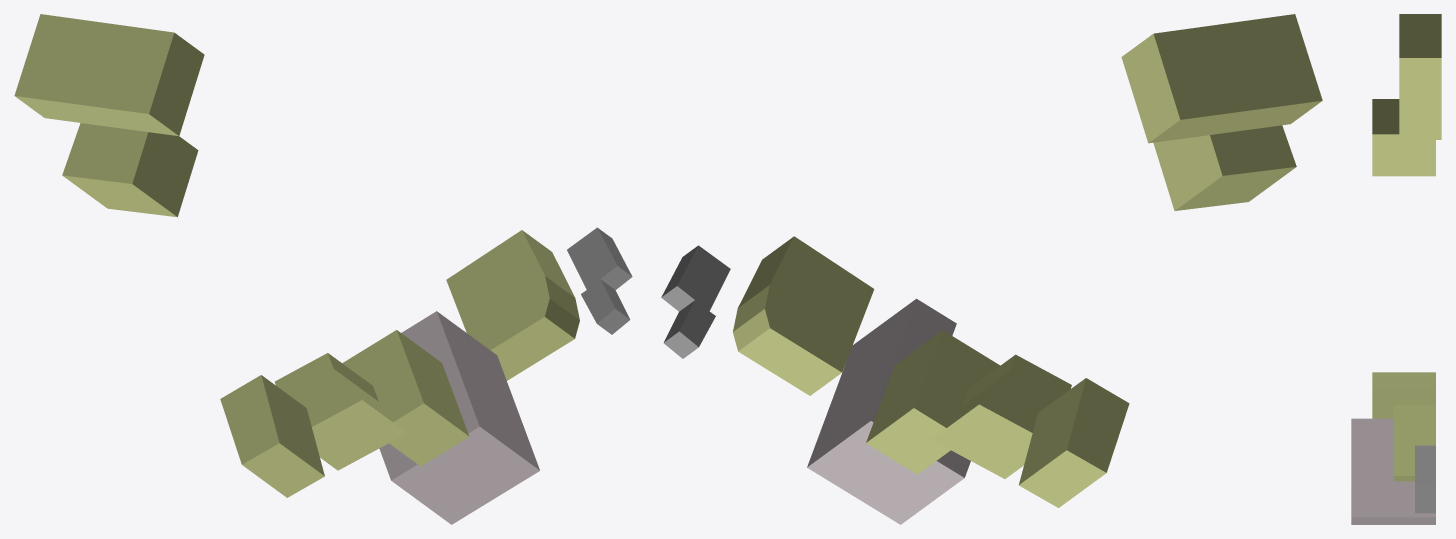
3 renders of one model, left to right at view 1: azimuth 30°, elevation 25°; view 2: azimuth 150°, elevation 25°; view 3: azimuth 270°, elevation 25°, orthographic. The views are drawn at different scales.
Parts seen in each view (by area): view 1: 0_1_0_2_1_3_1_3; view 2: 0_1_0_2_1_3_1_3; view 3: 0_1_0_2_1_3_1_3.
Part boxes in pixels (box(x1,y1,x2,y2)): 0_1_0_2_1_3_1_3: box(14, 14, 632, 524); 0_1_0_2_1_3_1_3: box(661, 14, 1322, 524); 0_1_0_2_1_3_1_3: box(1351, 14, 1441, 524).
Bounding box in the file's own units: 68.54 × 59.94 × 12.8.
